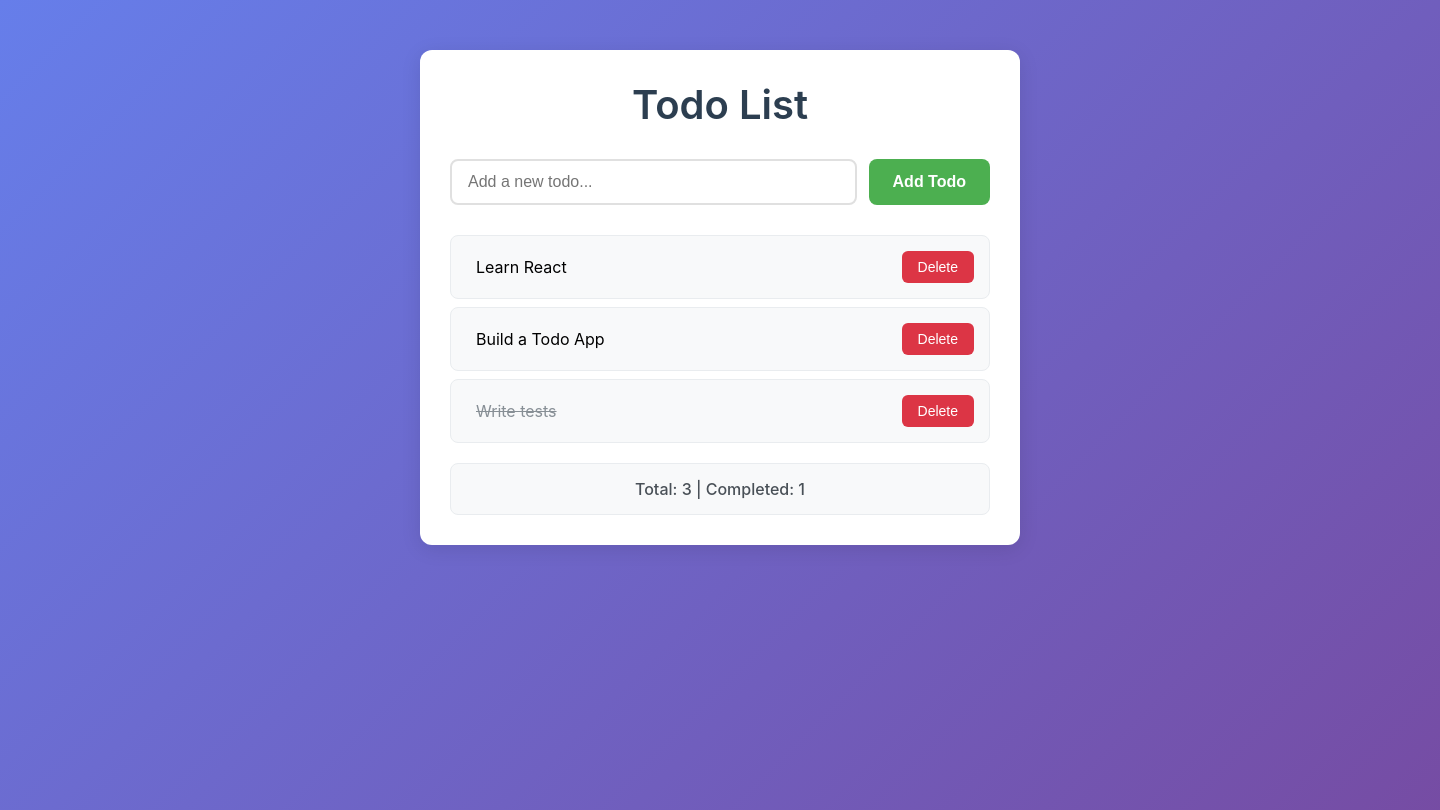
TodoList Component › Adding Todos › adds a new todo when form is submitted
In the field with test id "todo-input": point(653, 182) [450,159,856,205], type "Buy groceries"
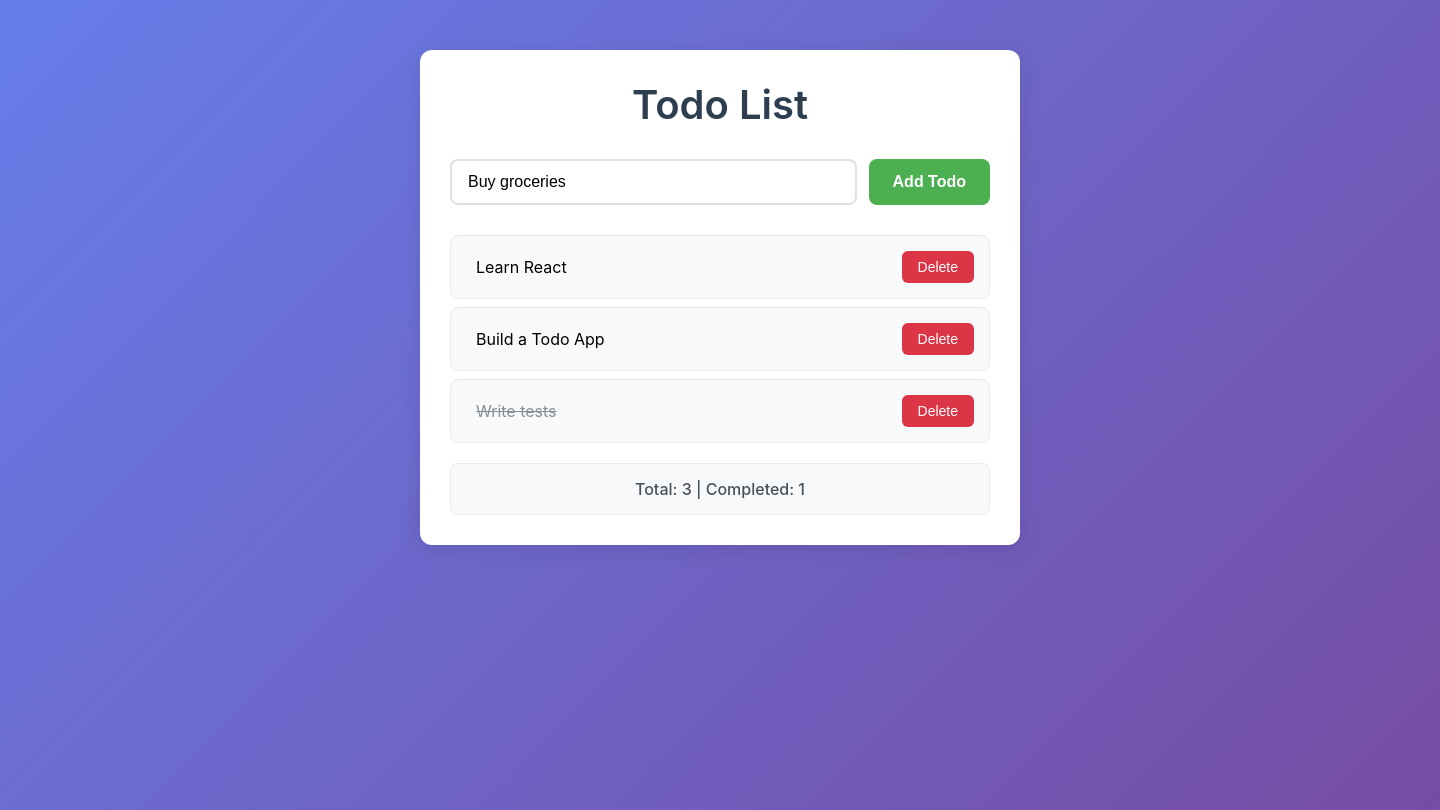
Click the button with test id "add-button": point(929, 182) [868,159,990,205]
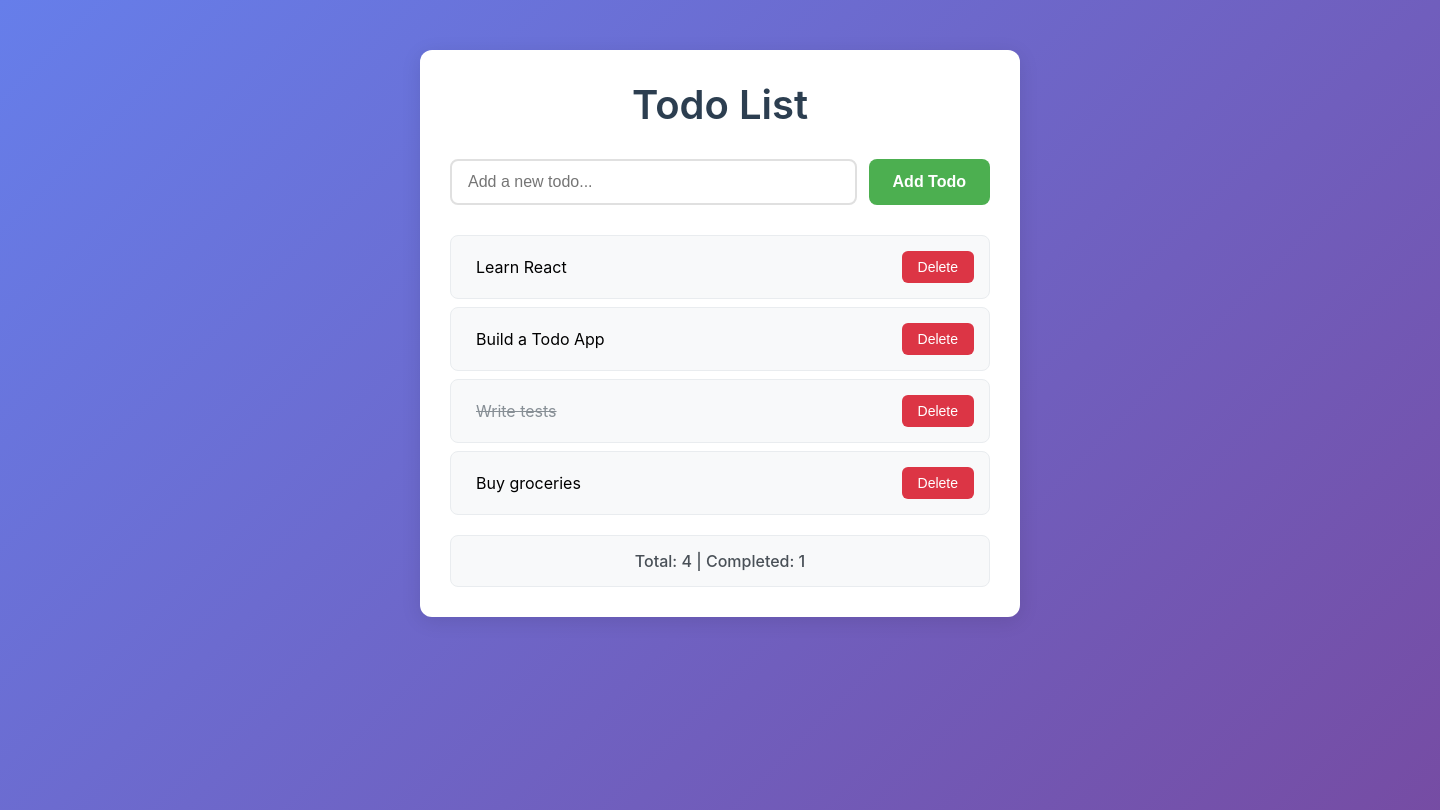
Expected: the text "Buy groceries" is shown, [476,473,581,493]
Expected: the field with test id "todo-input" is empty, [450,159,856,205]
